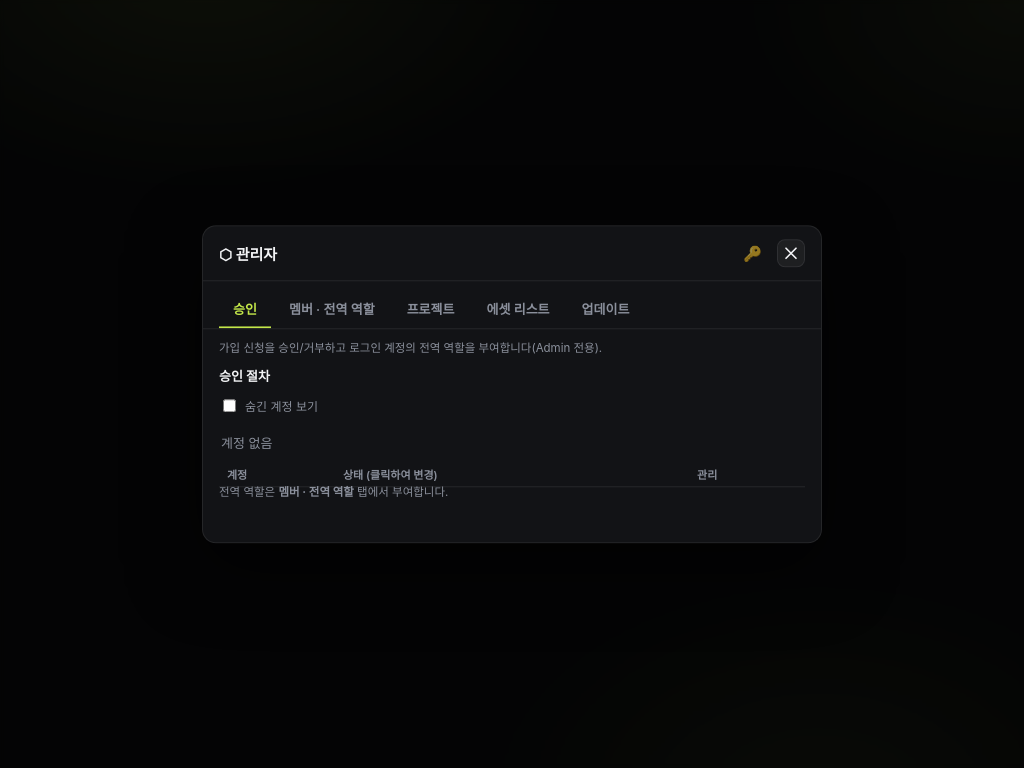
Scenario: 프로젝트 멤버 — 그사이 빠진 멤버의 역할 칩은 그 멤버를 되살리지 않고, 추가는 이미 들어와 있는 멤버의 역할을 덮지 않는다
Click the button with class "admin-tab" showing "프로젝트" at [431, 310], box x1=393 y1=291 x2=468 y2=328
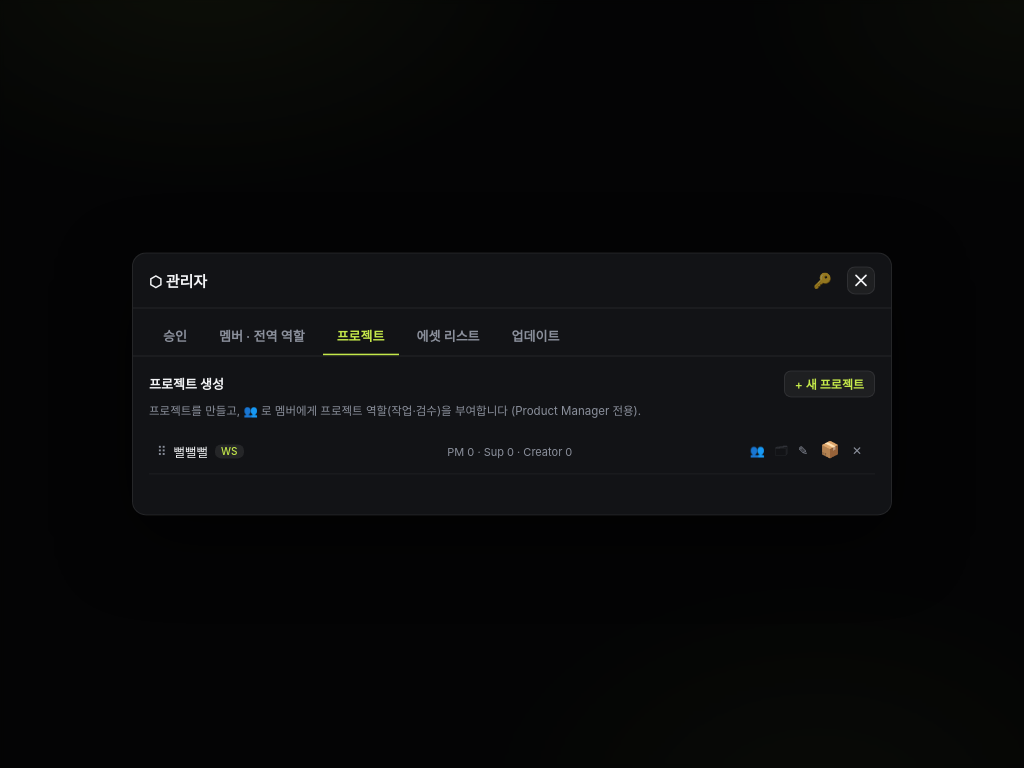
Click the button "👥" at [757, 451], box x1=745 y1=441 x2=770 y2=462
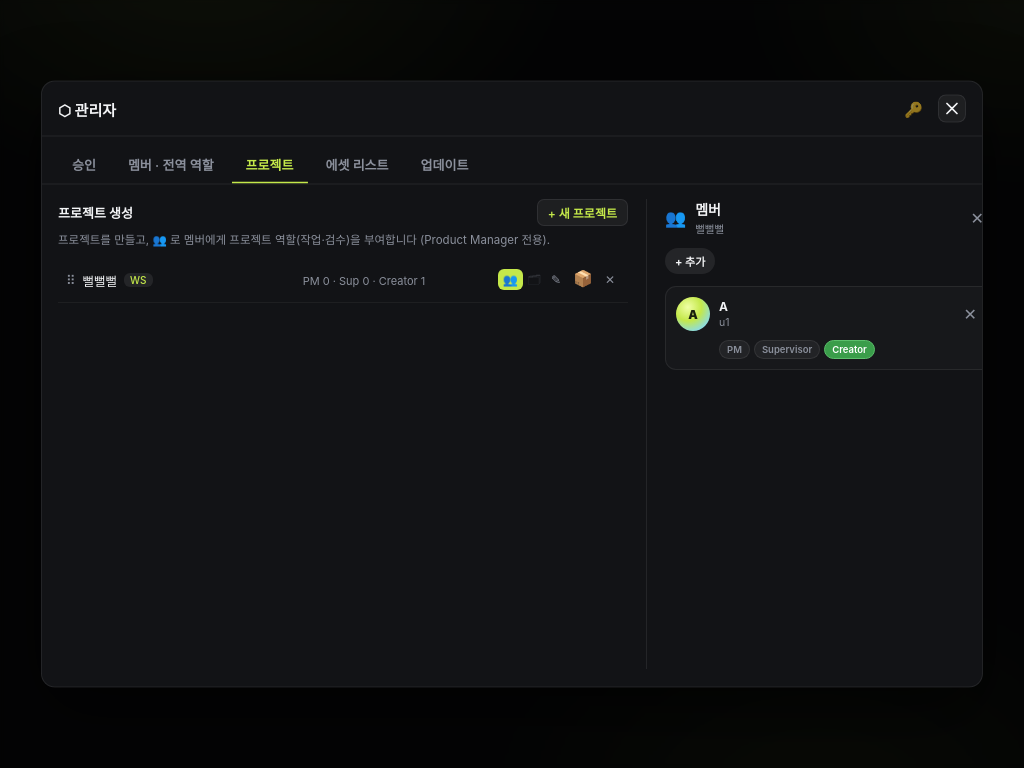
Click the button with class "role-chip" showing "Supervisor" at [787, 349], box x1=754 y1=340 x2=820 y2=358
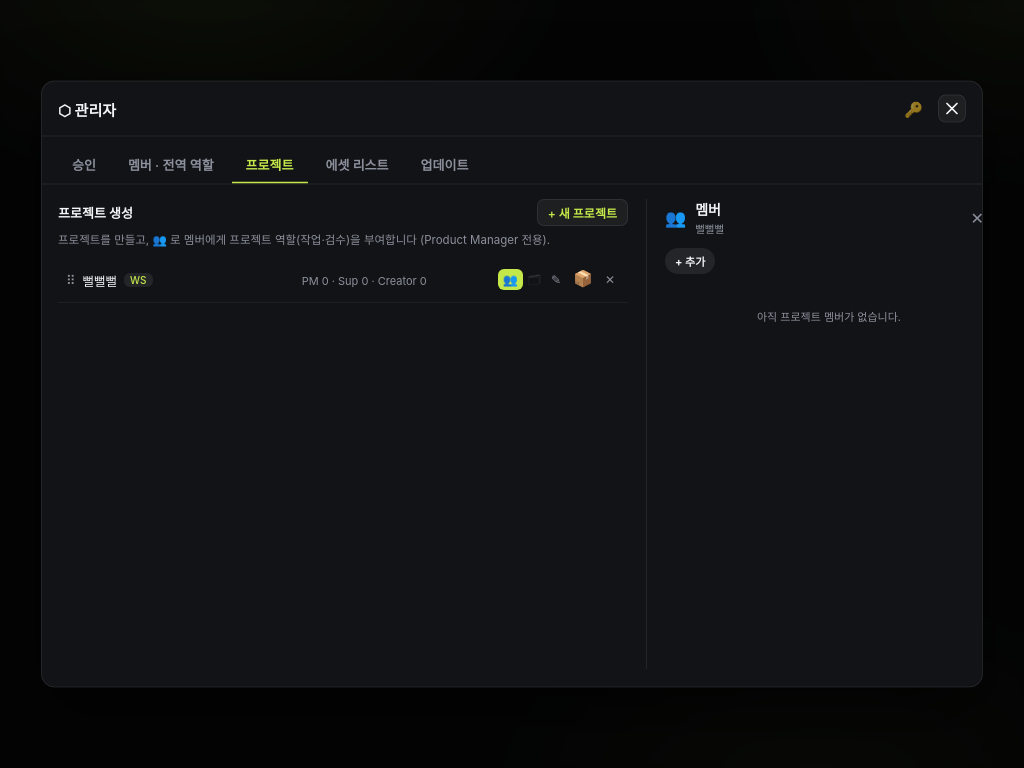
Click the button "+ 추가" at [690, 260], box x1=665 y1=248 x2=715 y2=274
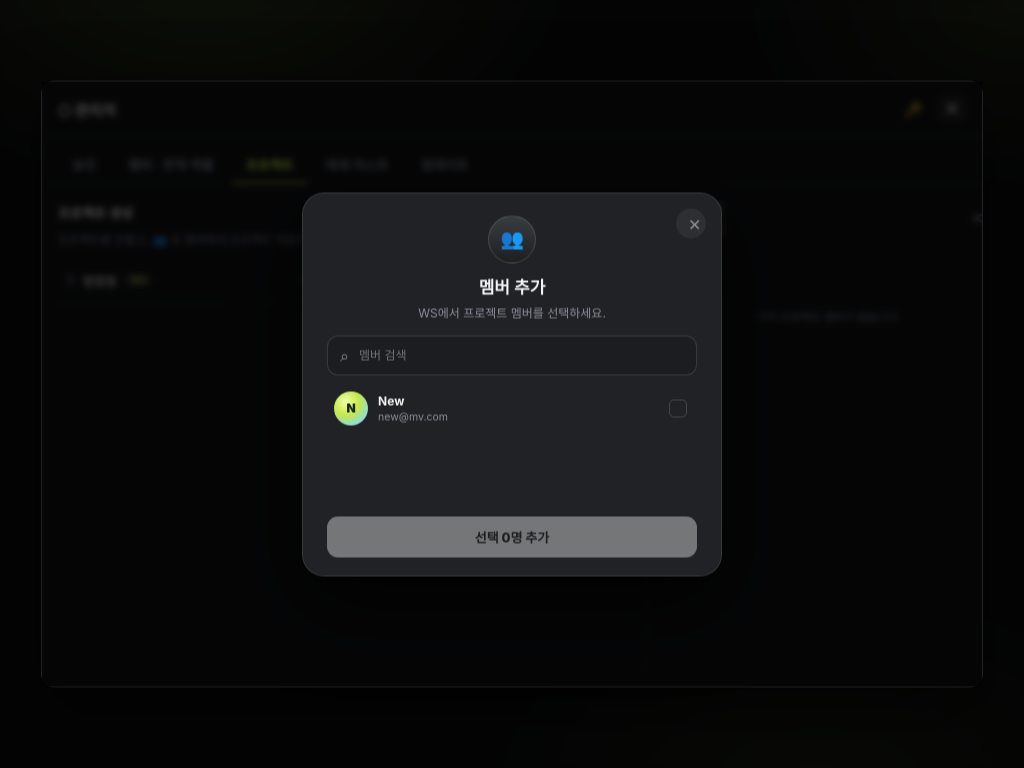
Click the checkbox labelled "N New new@mv.com" at [351, 408], box x1=327 y1=384 x2=694 y2=432
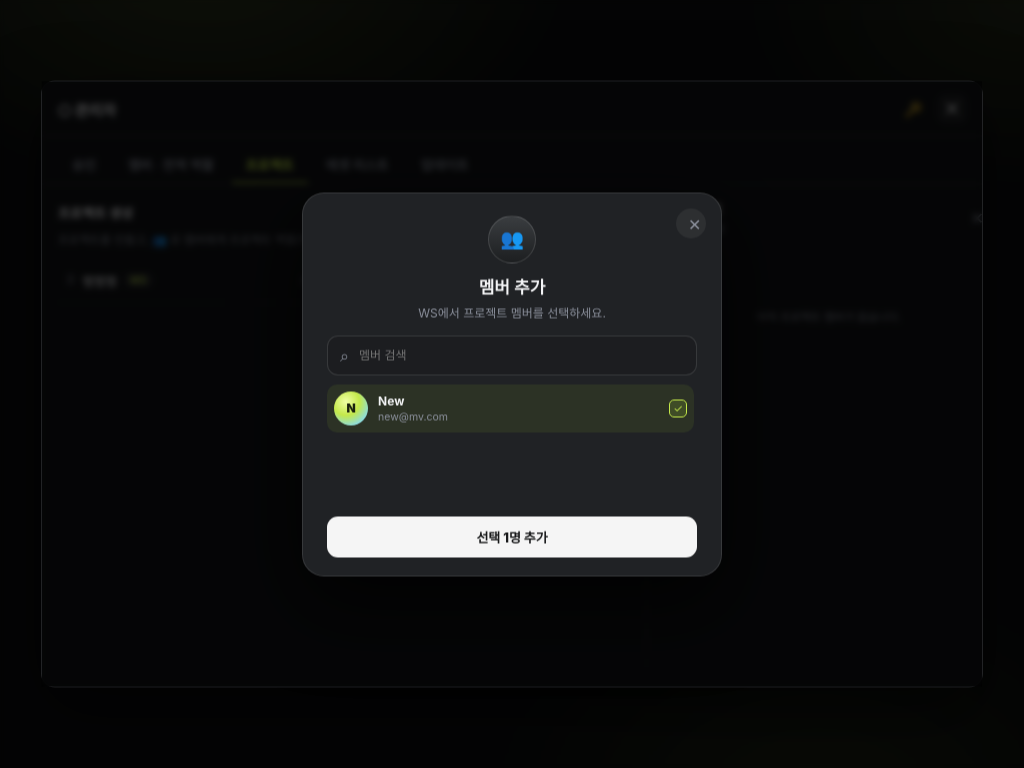
Click the button "선택 1명 추가" at [512, 536], box x1=327 y1=516 x2=697 y2=557
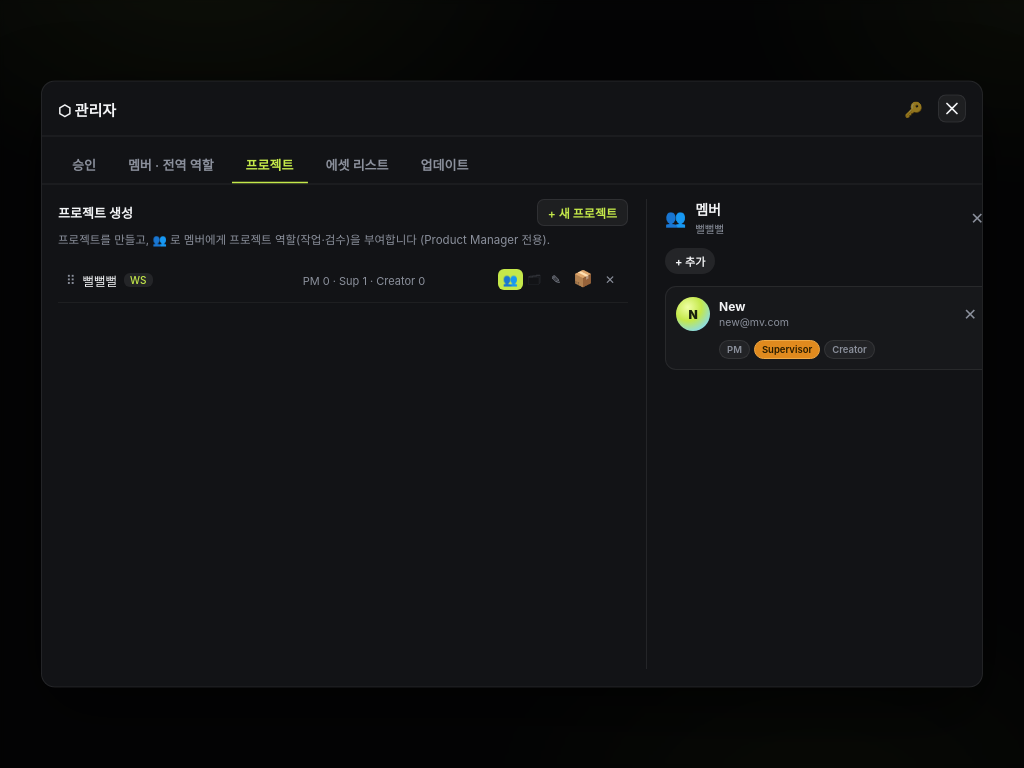
Result: the dialog is gone
